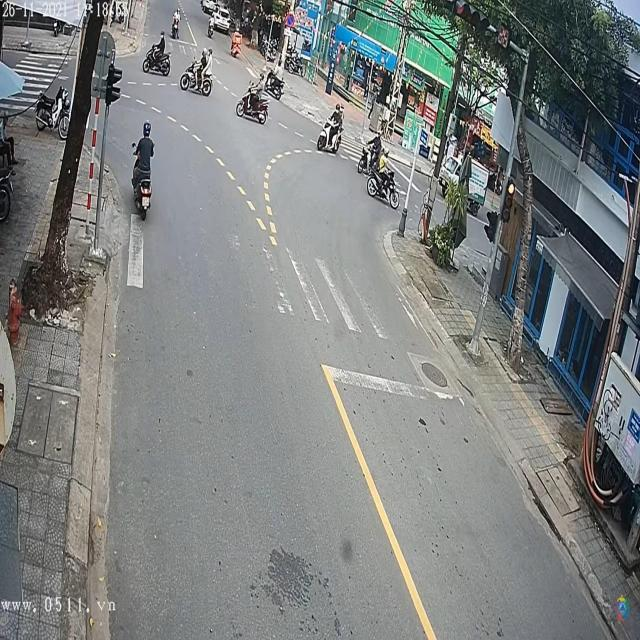motorcycle: (131, 150, 152, 220), (236, 79, 268, 122), (236, 90, 270, 126), (316, 112, 344, 154), (180, 62, 213, 96), (141, 40, 171, 77)
